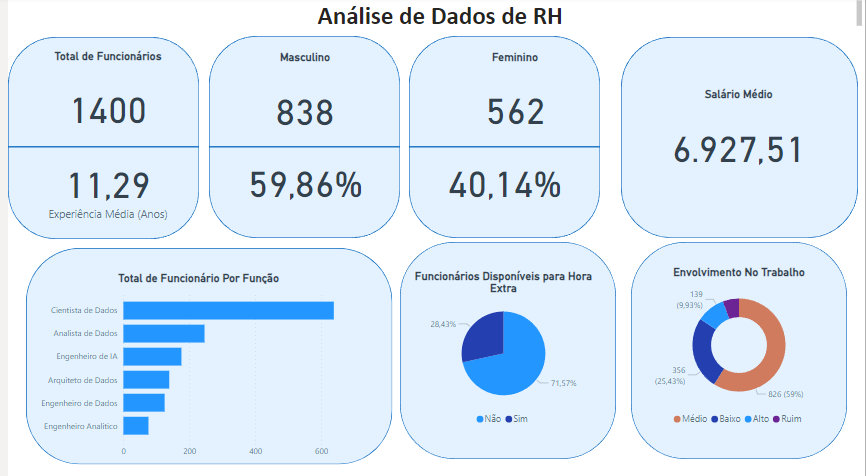

This screenshot's page, from the dashboard's own definition file:
{"tool":"powerbi","page":{"name":"Página 1","canvas":[1280,720],"ordinal":0},"visuals":[{"type":"textbox","box":[10.5,0,1269.5,52.3],"z":0},{"type":"card","title":"Total de Funcionários","fields":{"Values":["Medidas.TotalFunc"]},"box":[41.8,77.7,215.1,150.9],"z":5},{"type":"card","title":"Masculino","fields":{"Values":["Medidas.TotalMascu"]},"box":[325.6,79.2,236,152.3],"z":6},{"type":"card","title":"Feminino","fields":{"Values":["Medidas.TotalFemi"]},"box":[645.2,79.2,224,150.9],"z":7},{"type":"card","fields":{"Values":["Medidas.ExpMedia"]},"box":[41.8,209.1,215.1,152.3],"z":8},{"type":"card","fields":{"Values":["Medidas.% Masculino"]},"box":[325.6,209.1,236,127],"z":9},{"type":"card","fields":{"Values":["Medidas.% Feminino"]},"box":[615.4,209.1,253.9,127],"z":10},{"type":"card","title":"Salário Médio","fields":{"Values":["Medidas.MediaSalario"]},"box":[913.7,134.8,354.8,151.9],"z":11},{"type":"barChart","title":"Total de Funcionário Por Função","fields":{"Y":["Medidas.TotalFunc"],"Category":["DatasetRH.Funcao"]},"box":[38,409.7,494.8,288],"z":12},{"type":"pieChart","title":"Funcionários  Disponíveis para Hora Extra","fields":{"Category":["DatasetRH.Disponivel_Hora_Extra"],"Y":["Medidas.TotalFunc"]},"box":[633.6,409.7,281.5,243.5],"z":13},{"type":"donutChart","title":"Envolvimento No Trabalho","fields":{"Category":["DatasetRH.Envolvimeto_Trabalho"],"Y":["Medidas.TotalFunc"]},"box":[981.8,403.2,274.9,250],"z":14},{"type":"shape","box":[0,59.7,285.3,301.7],"z":15},{"type":"shape","box":[300.2,58.2,285.3,301.7],"z":16},{"type":"shape","box":[598.9,58.2,285.3,301.7],"z":19},{"type":"shape","box":[26.2,374.4,547.2,323.3],"z":20},{"type":"shape","box":[946.5,374.4,322,323.3],"z":22},{"type":"shape","box":[614,374.4,322,323.3],"z":23},{"type":"shape","box":[915.6,59.7,354,301.7],"z":24},{"type":"shape","box":[0,73.3,285.4,301.1],"z":25},{"type":"shape","box":[299.8,73.3,285.4,301.1],"z":26},{"type":"shape","box":[599.6,73.3,285.4,301.1],"z":27}]}

Visuals, with their boxes in screenshot pixels (x1, y1, x2, y2), scaled from the page's 1280x720 canvas onto the 866x476 screenshot:
textbox: x1=7 y1=0 x2=865 y2=35
"Total de Funcionários" card: x1=28 y1=51 x2=174 y2=151
"Masculino" card: x1=220 y1=52 x2=380 y2=153
"Feminino" card: x1=437 y1=52 x2=588 y2=152
card - Medidas.ExpMedia: x1=28 y1=138 x2=174 y2=239
card - Medidas.% Masculino: x1=220 y1=138 x2=380 y2=222
card - Medidas.% Feminino: x1=416 y1=138 x2=588 y2=222
"Salário Médio" card: x1=618 y1=89 x2=858 y2=190
"Total de Funcionário Por Função" barChart: x1=26 y1=271 x2=360 y2=461
"Funcionários  Disponíveis para Hora Extra" pieChart: x1=429 y1=271 x2=619 y2=432
"Envolvimento No Trabalho" donutChart: x1=664 y1=267 x2=850 y2=432
shape: x1=0 y1=39 x2=193 y2=239
shape: x1=203 y1=38 x2=396 y2=238
shape: x1=405 y1=38 x2=598 y2=238
shape: x1=18 y1=248 x2=388 y2=461
shape: x1=640 y1=248 x2=858 y2=461
shape: x1=415 y1=248 x2=633 y2=461
shape: x1=619 y1=39 x2=859 y2=239
shape: x1=0 y1=48 x2=193 y2=248
shape: x1=203 y1=48 x2=396 y2=248
shape: x1=406 y1=48 x2=599 y2=248
